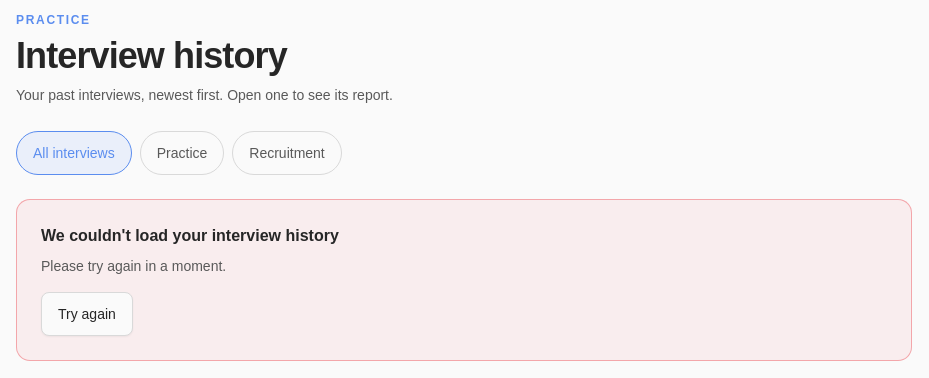
Test case: InterviewHistory › offers a retry when the history cannot load
Check: the heading "We couldn't load your interview history" is shown, box [41,227,339,244]
What coordinates should you click on to do the following:
click the button "Try again"
I would click on:
 (87, 314)
Its box is [41,292,133,336].
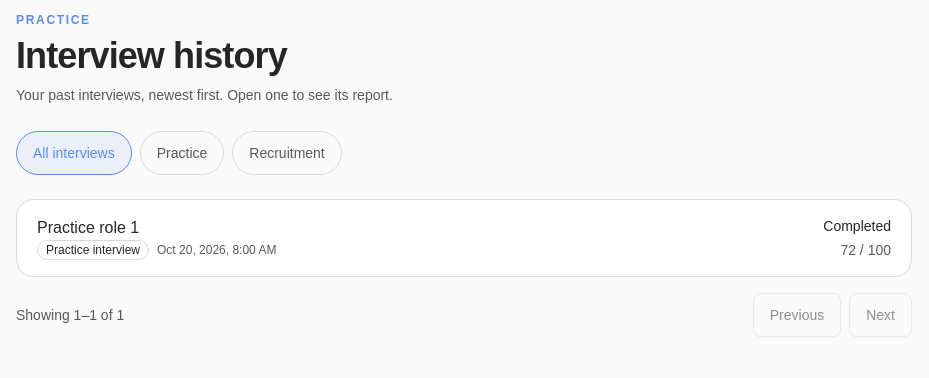
Check: the link "Practice role 1" is shown, box [37,219,139,236]
